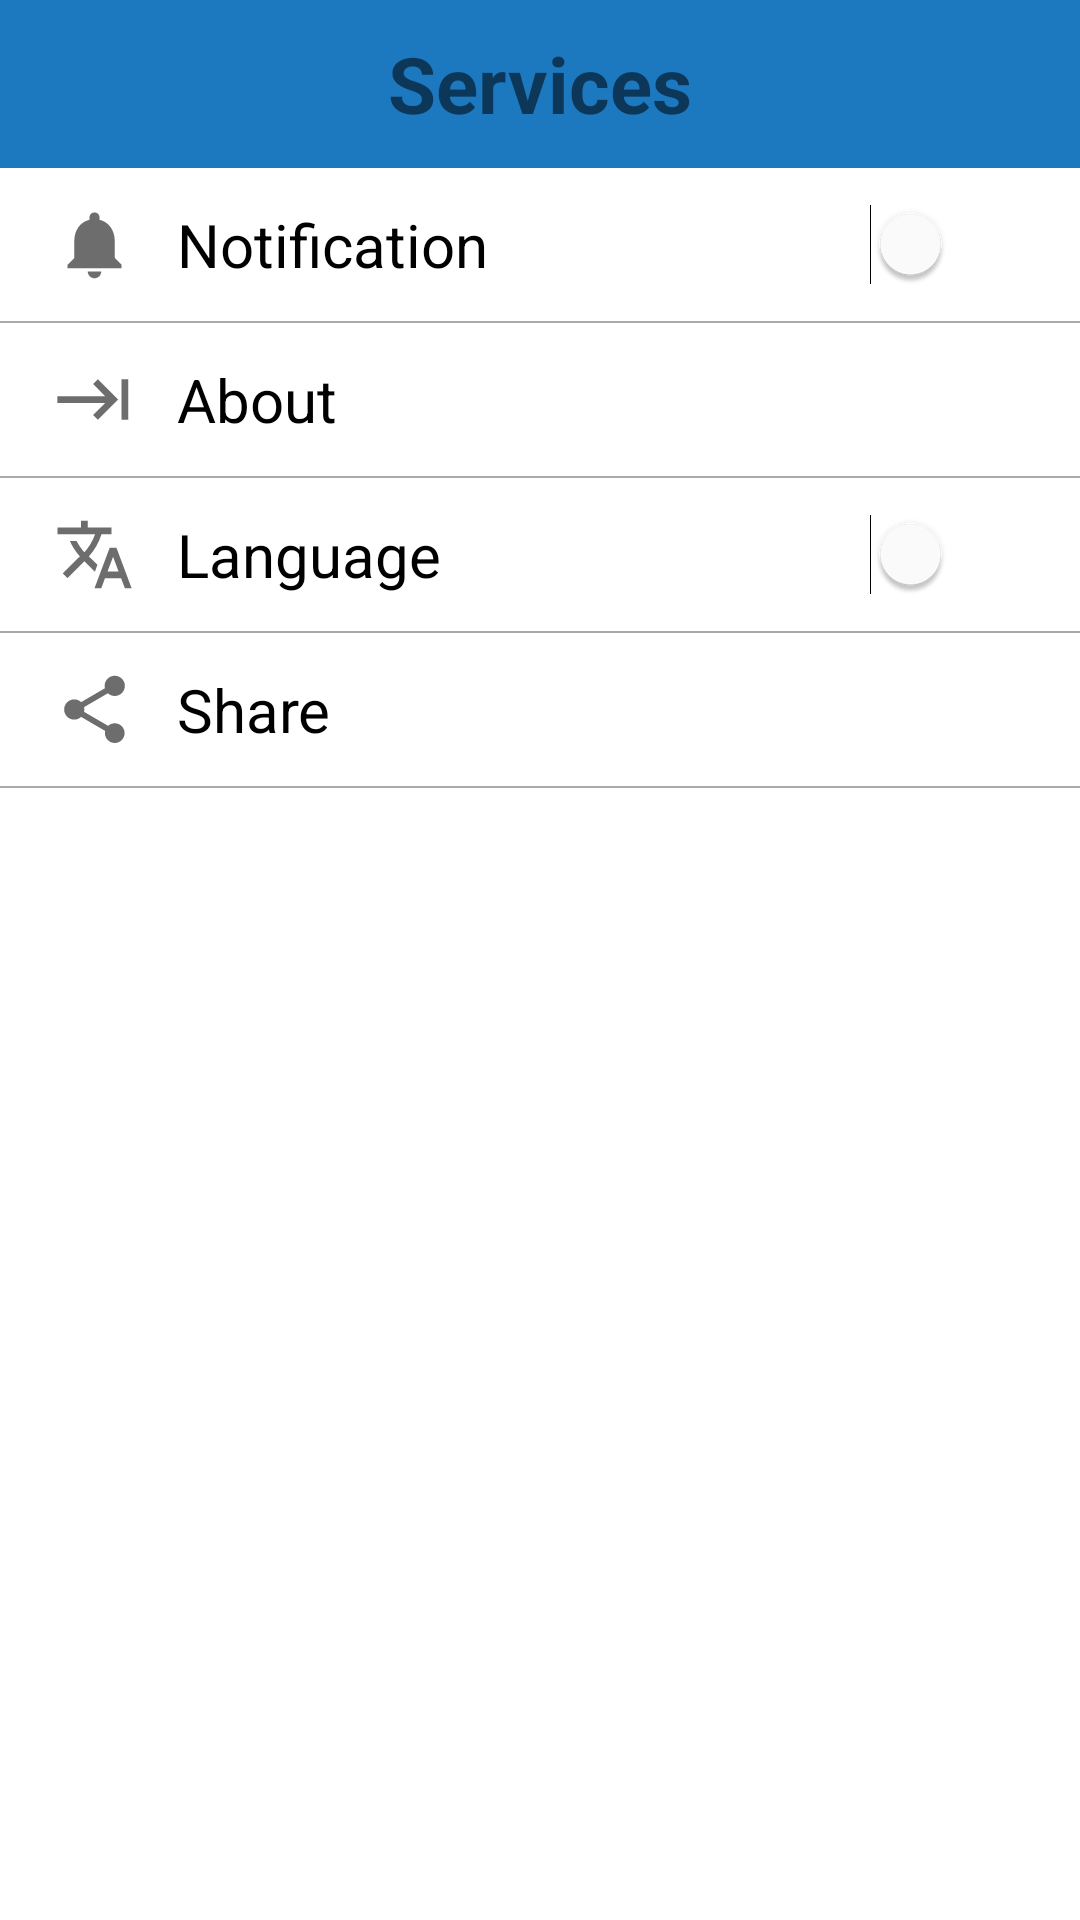

Locate icon controls on the screen. Image size 1080×1920, boxes as {"left": x1, "top": y1, "right": x2, "bottom": y2}.
translate: {"left": 57, "top": 520, "right": 132, "bottom": 589}
